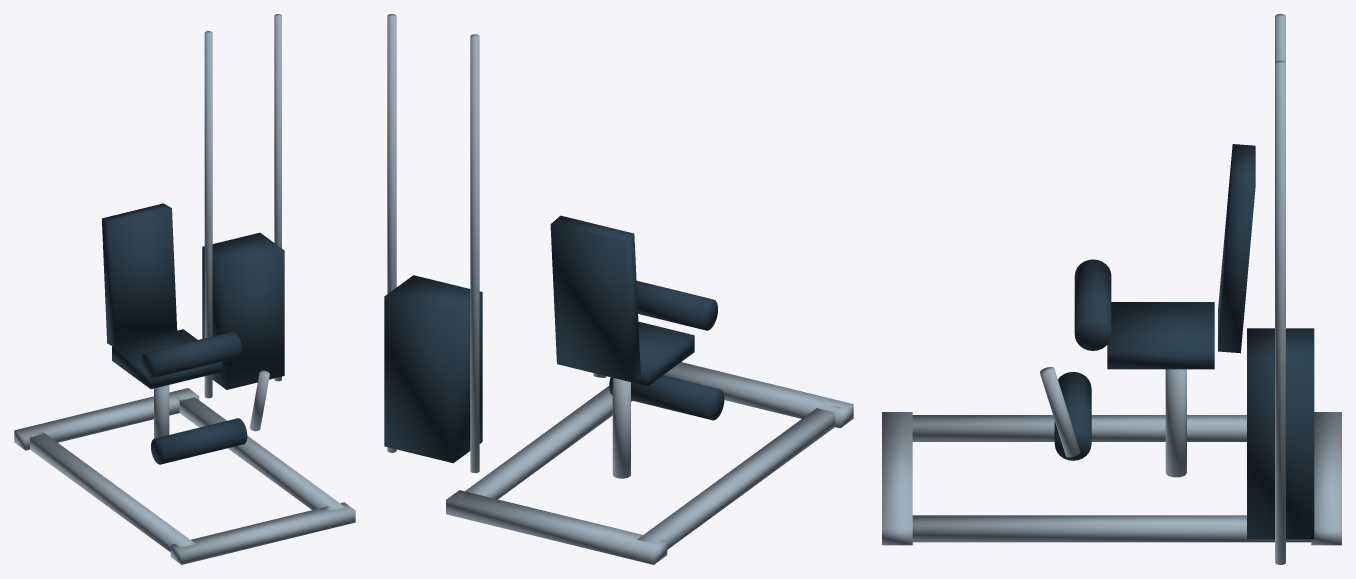
Rendered from machine_b_seated_leg_curl.glb.
The picture shows the model from 3 angles, left to right: view 1: azimuth 30°, elevation 25°; view 2: azimuth 150°, elevation 25°; view 3: azimuth 270°, elevation 25°; orthographic projection. The views are drawn at different scales.
Visible parts, largest first — view 1: base, weight_stack, back_pad, guide_-1, thigh_restraint, roller, seat, guide_1, seat_post, roller_link; view 2: base, weight_stack, back_pad, guide_-1, guide_1, roller, thigh_restraint, seat, seat_post; view 3: base, weight_stack, seat, guide_1, back_pad, thigh_restraint, seat_post, roller, roller_link.
Part boxes in pixels (<box>): base: <box>14,388,355,564</box>; weight_stack: <box>202,232,284,389</box>; back_pad: <box>102,203,177,346</box>; guide_-1: <box>204,31,212,398</box>; thigh_restraint: <box>141,331,241,378</box>; roller: <box>151,418,247,464</box>; seat: <box>112,329,222,389</box>; guide_1: <box>274,14,281,381</box>; seat_post: <box>154,385,169,438</box>; roller_link: <box>249,370,269,431</box>; base: <box>446,362,853,564</box>; weight_stack: <box>384,275,482,463</box>; back_pad: <box>550,215,640,381</box>; guide_-1: <box>470,34,479,473</box>; guide_1: <box>387,14,396,452</box>; roller: <box>609,375,724,420</box>; thigh_restraint: <box>636,281,717,330</box>; seat: <box>631,321,694,386</box>; seat_post: <box>612,378,630,478</box>; base: <box>882,412,1341,545</box>; weight_stack: <box>1247,328,1314,539</box>; seat: <box>1107,302,1214,369</box>; guide_1: <box>1275,60,1285,564</box>; back_pad: <box>1218,144,1255,353</box>; thigh_restraint: <box>1074,259,1111,350</box>; seat_post: <box>1165,369,1186,477</box>; roller: <box>1054,372,1091,460</box>; roller_link: <box>1040,367,1080,457</box>.
Size of the model in its own units: 1.27 by 1.9 by 1.5.
